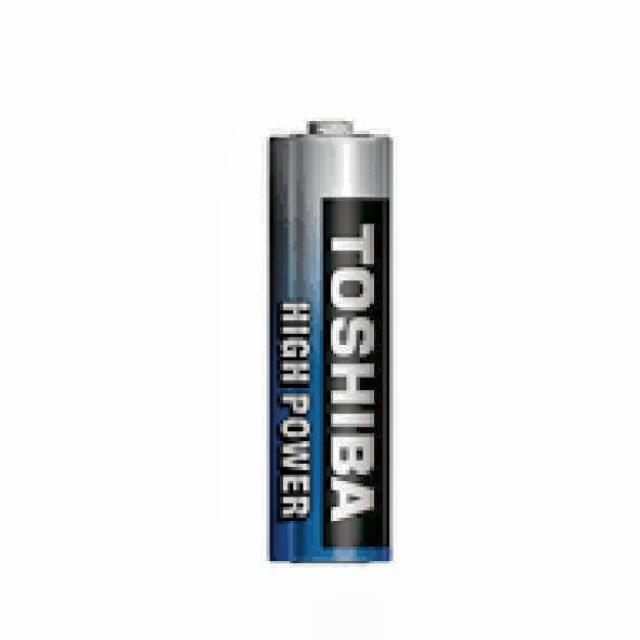Non-Valuable Waste - Batteries: (267, 121, 390, 566)
